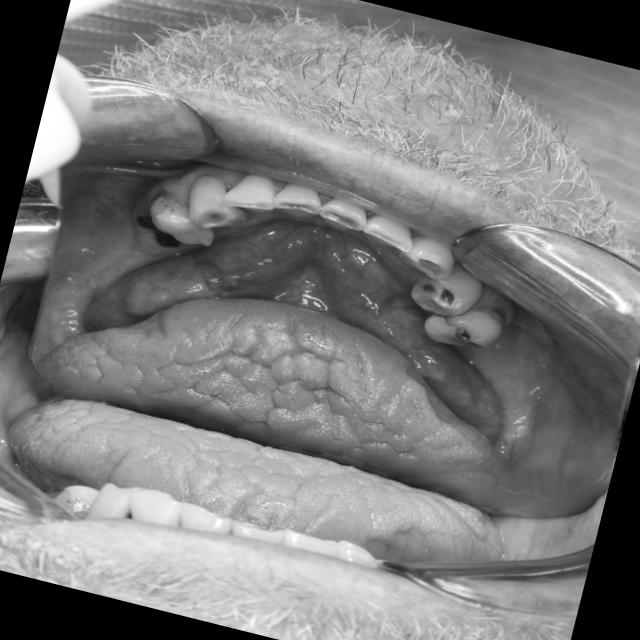tooth: (415, 287, 515, 360), (132, 184, 231, 255), (173, 167, 261, 241), (403, 257, 491, 328), (394, 225, 465, 286), (213, 165, 287, 223), (355, 206, 425, 258), (312, 187, 374, 244), (267, 172, 328, 226)
